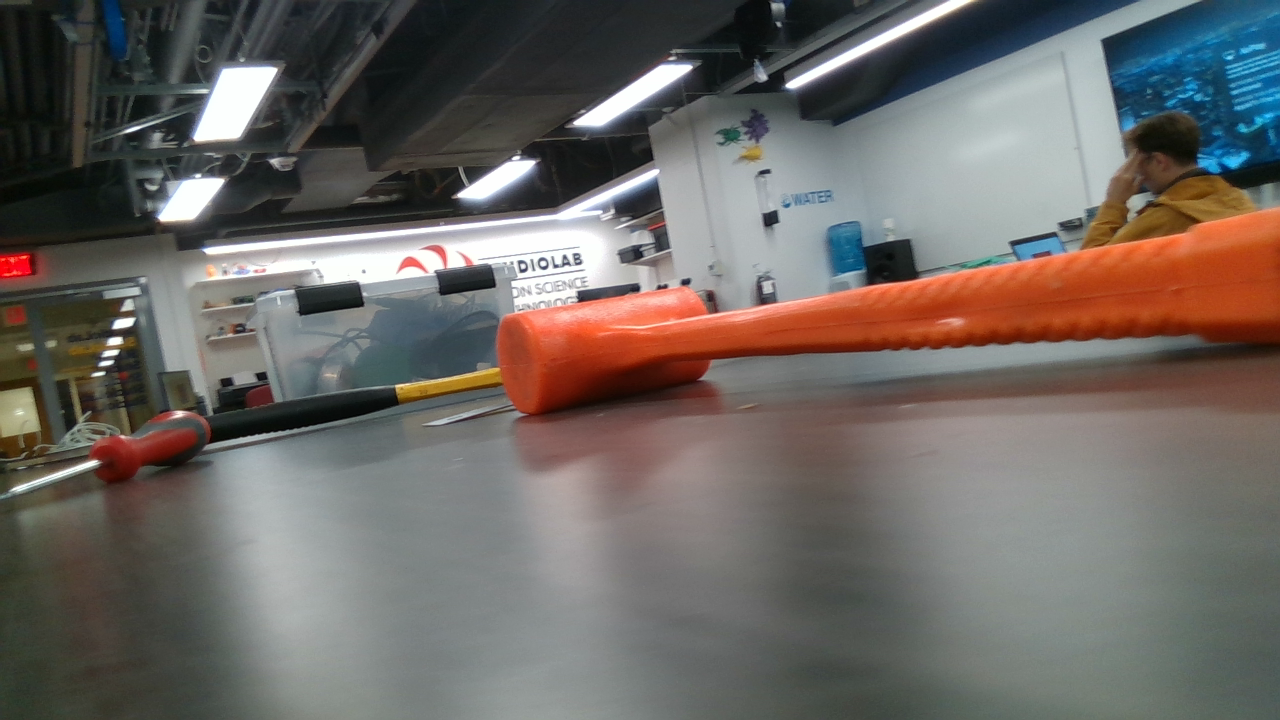Orange Hammer: (496, 207, 1280, 416)
